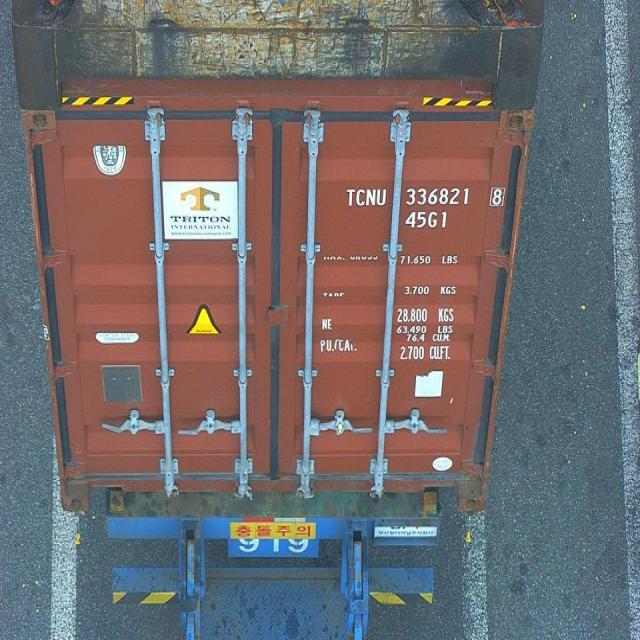ISO: (406, 211, 449, 229)
container_number: (347, 184, 493, 208)
